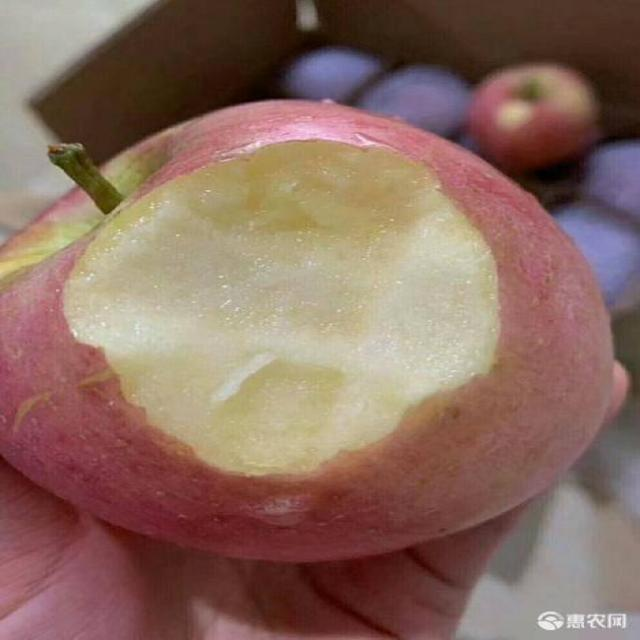Rotten: (2, 87, 626, 571)
